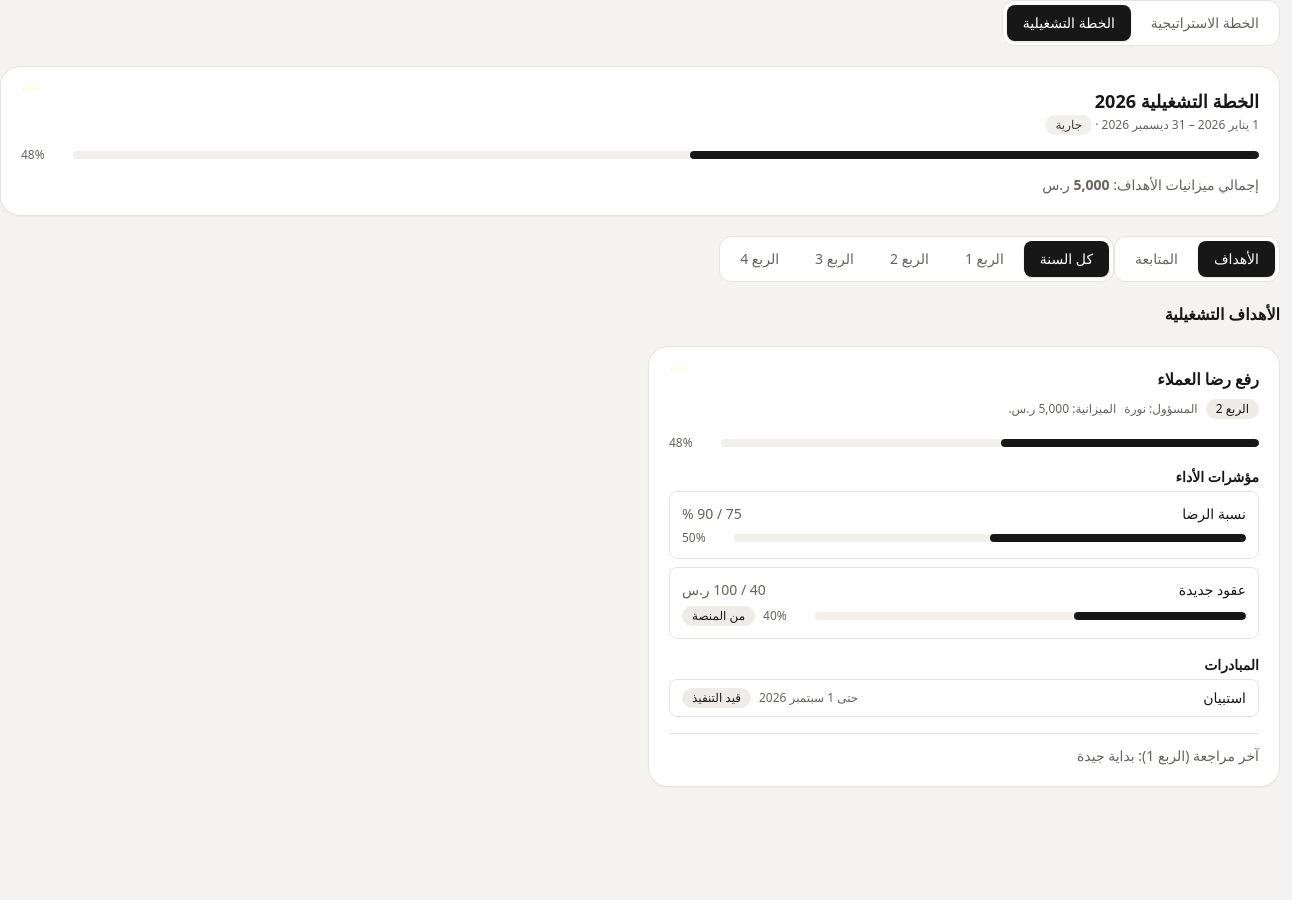
Test: PlansPage › filters the operational objectives by quarter
Expected: the heading "رفع رضا العملاء" is shown, [1157, 368, 1259, 390]
Click the tab "الربع 3".
click(835, 259)  # box [799, 241, 870, 277]
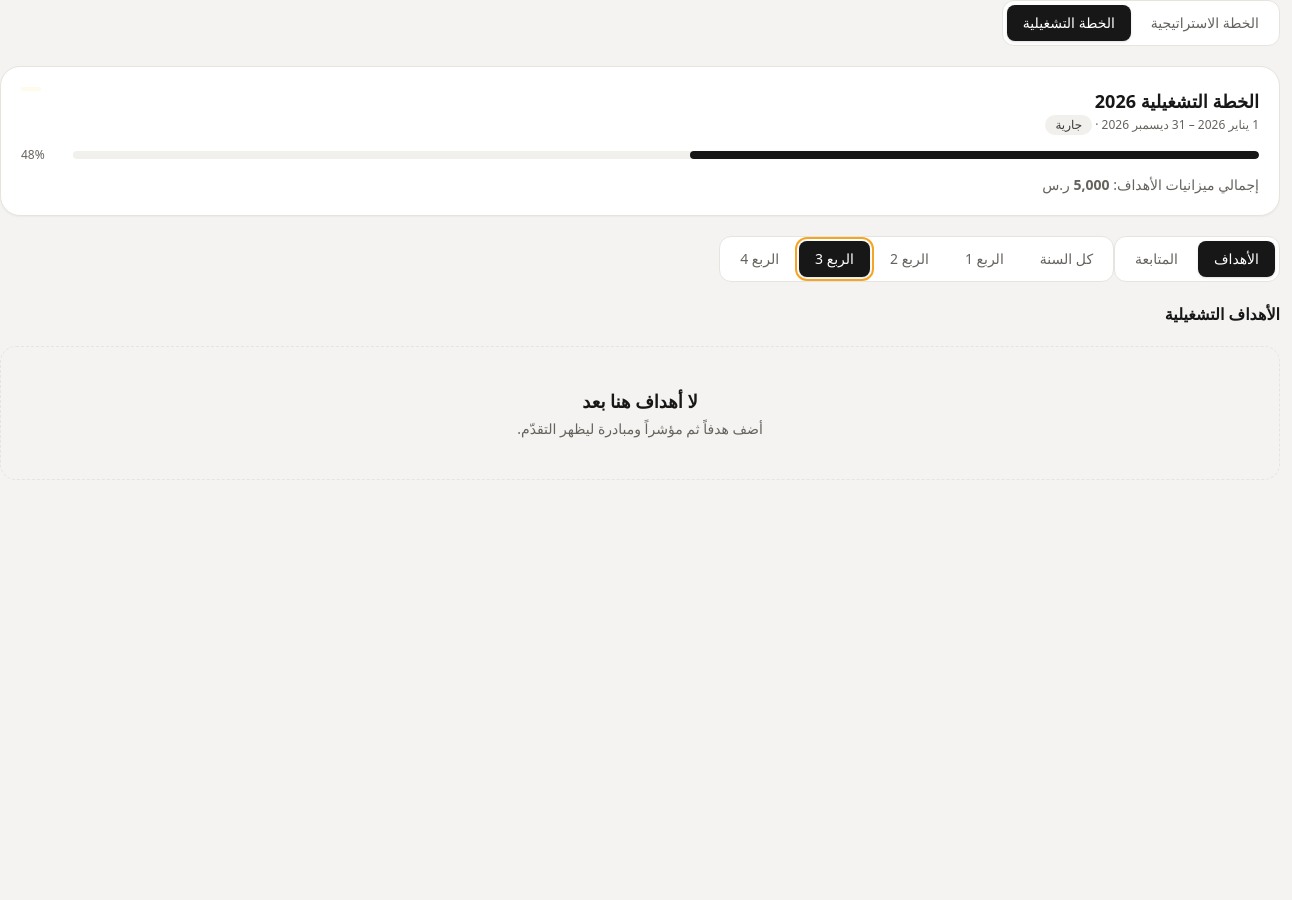
Now the heading "رفع رضا العملاء" is gone
Click the tab "الربع 2".
click(909, 259)  # box [874, 241, 945, 277]
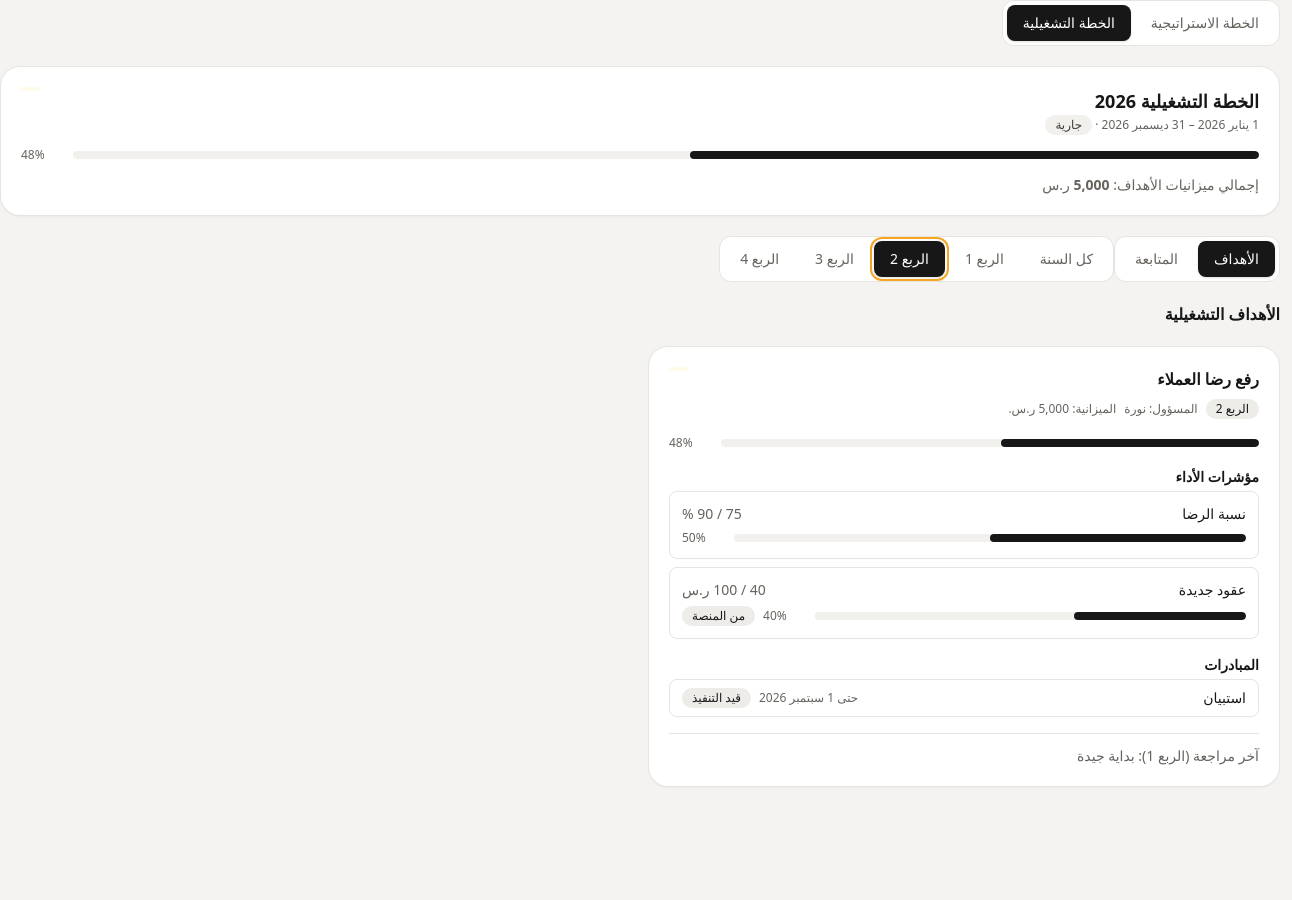
Now the heading "رفع رضا العملاء" is shown, box [1157, 368, 1259, 390]
